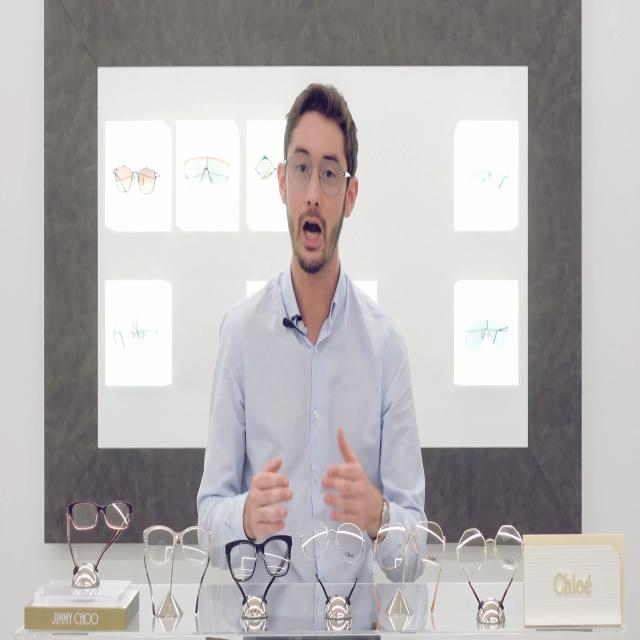dress: (196, 256, 426, 587)
glasses: (284, 151, 346, 199)
